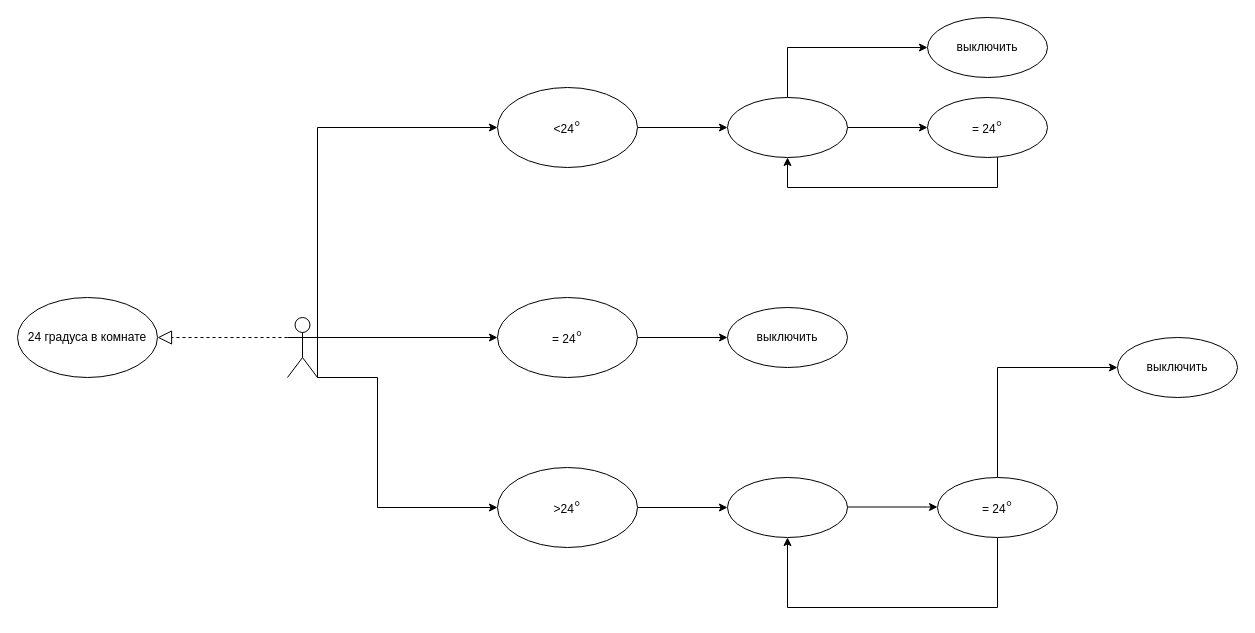
This 1255x633 diagram has some shape labels left out. Each missing label, with the centre of its shape:
"кондиционер" goes at (302,347).
"нагреть комнату" goes at (787,127).
"охладить комнату" goes at (787,507).
